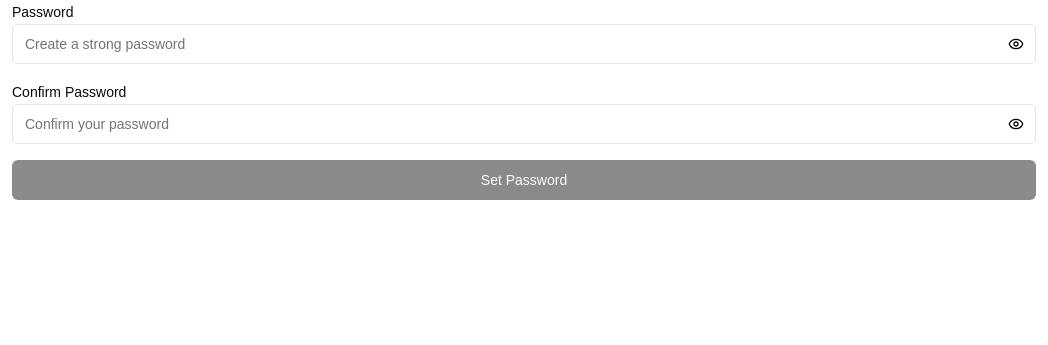
Test case: SetPasswordForm Integration › shows password strength indicator and allows visibility toggle
The image size is (1048, 345).
# Enter a weak password
Type "123" into the password field labelled "Password" at (524, 44), box [12,24,1036,64]
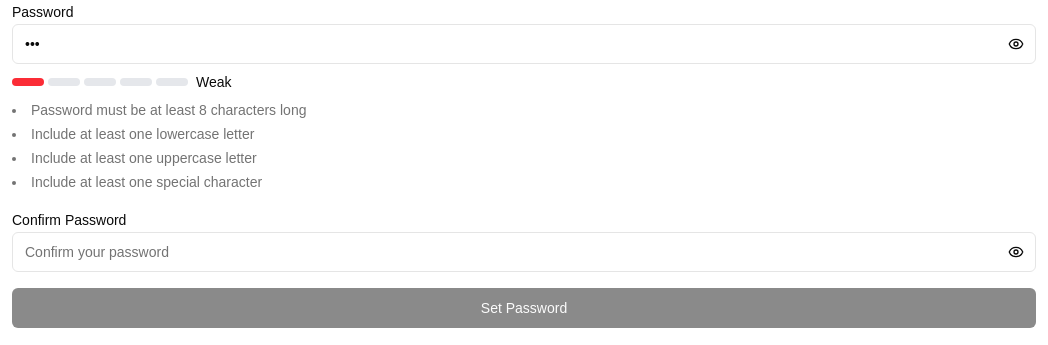
Expected: the text "Weak" is shown, [196,72,232,92]
# Toggle visibility
Click the 1st button named "show password" at (1016, 44), box [996,24,1036,64]
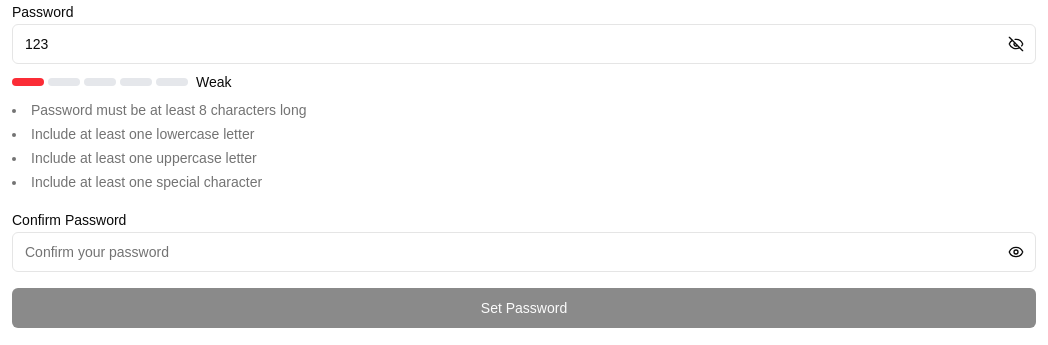
Expected: the text "Weak" is shown, [196,72,232,92]
Expected: the field labelled "Password" shows its text, [12,24,1036,64]
